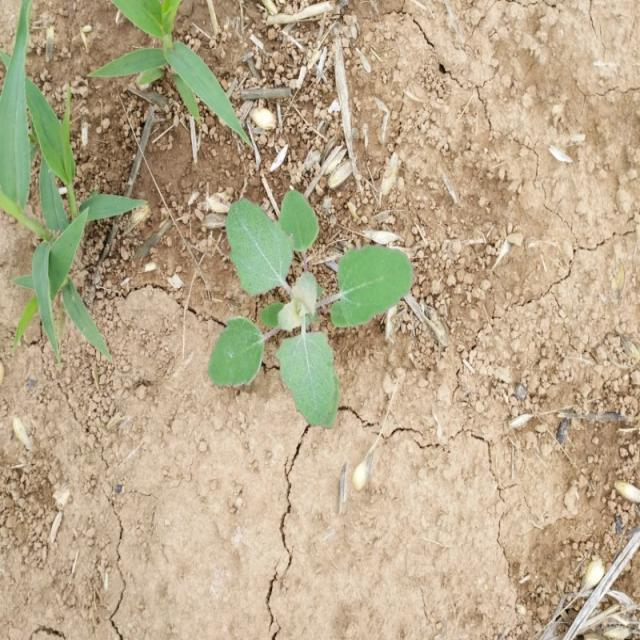ca: (212, 192, 410, 419)
